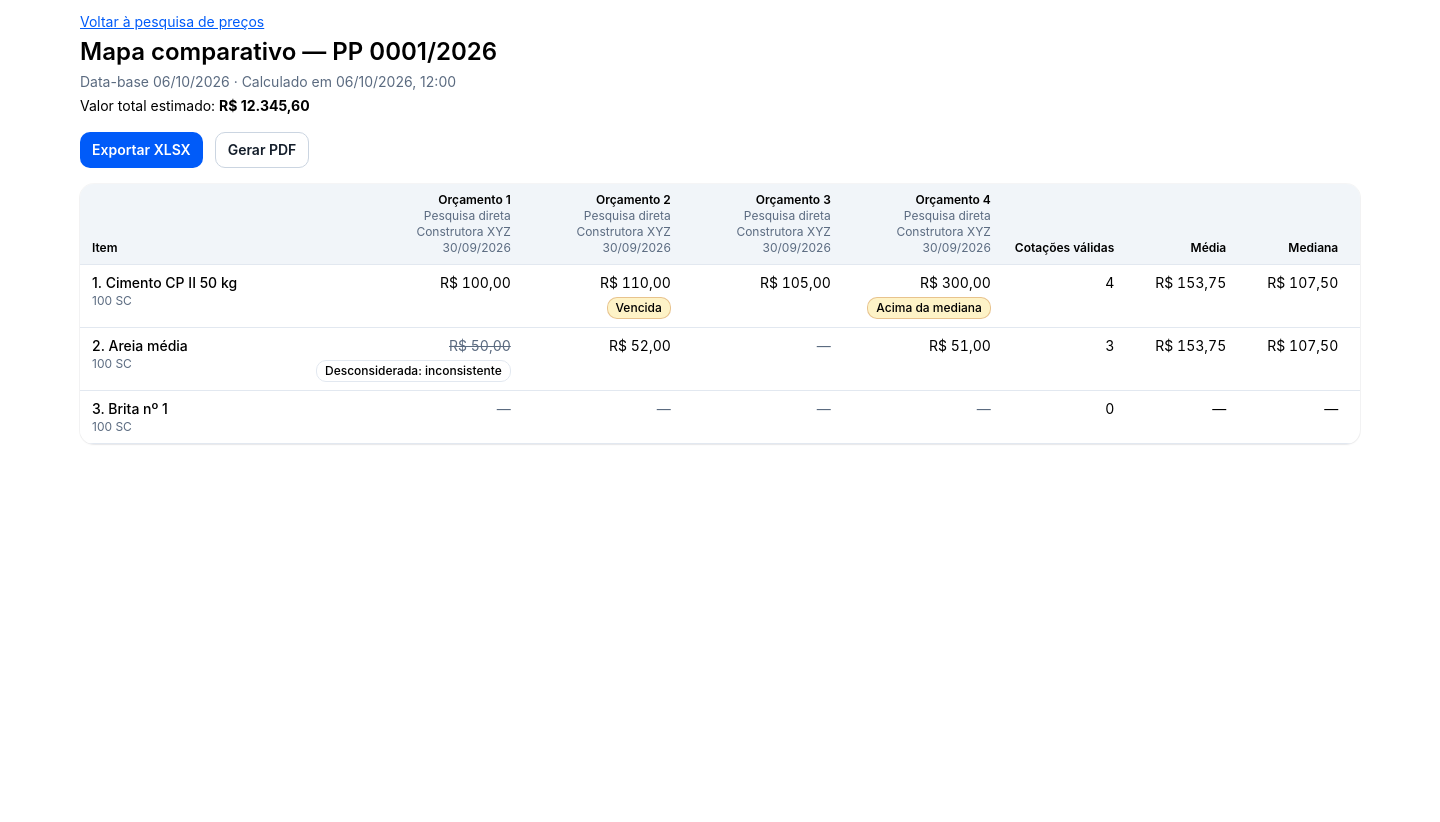
Test case: SCR-010 — Mapa comparativo (US-031) › [Sucesso] Exportar XLSX baixa o arquivo do PRS-22
This screenshot has width=1440, height=822.
Click the button "Exportar XLSX". click: [141, 150]
box: [80,132,203,168]
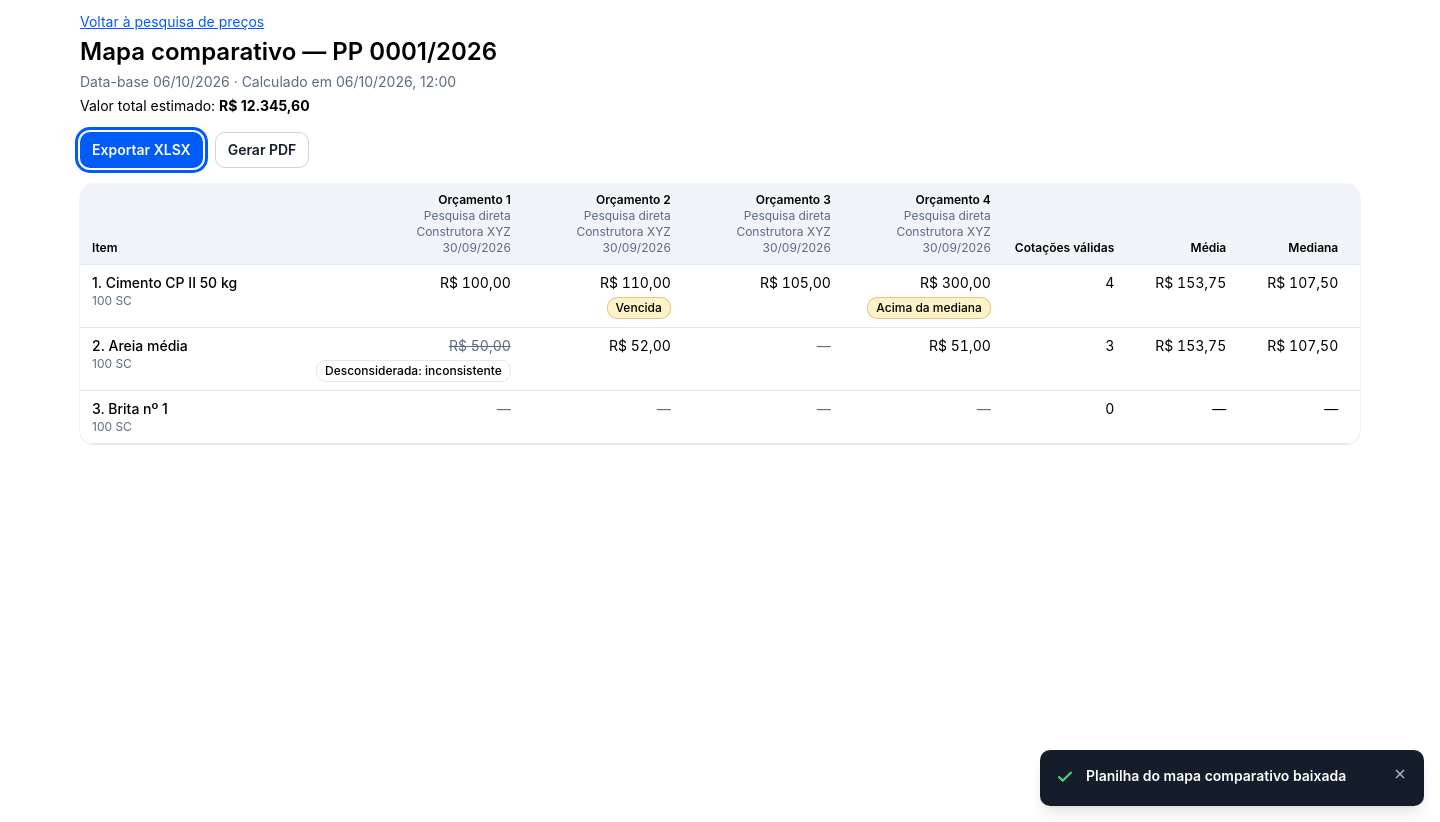
Now the text "Planilha do mapa comparativo baixada" is shown, box [1086,766,1376,786]
